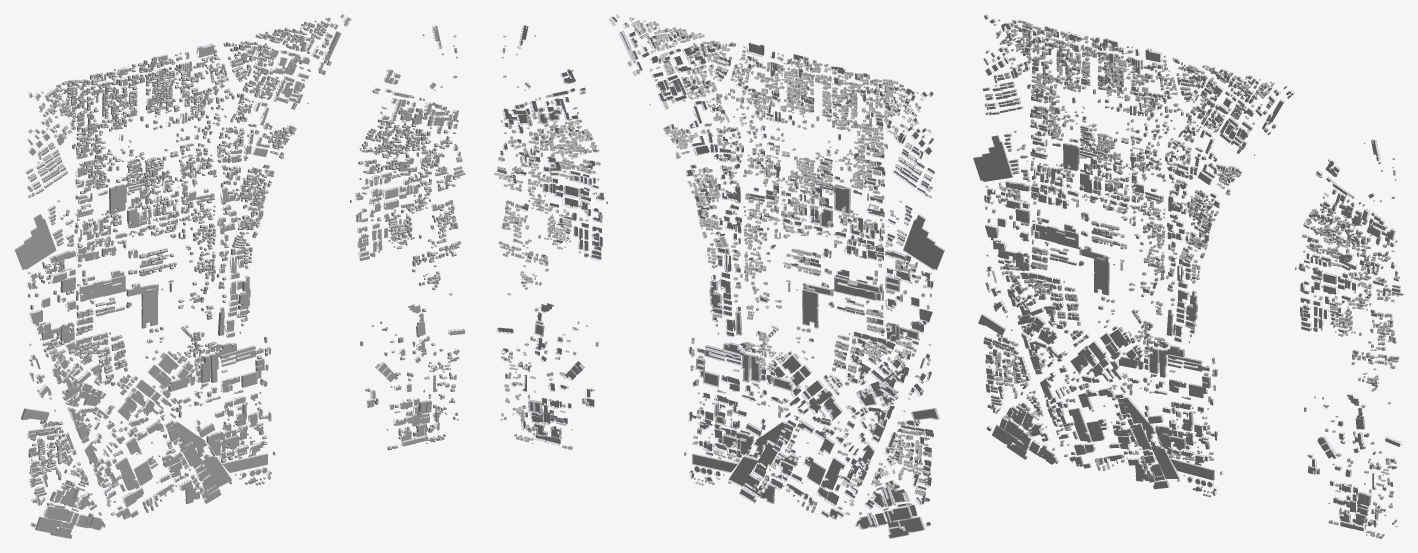
Rendered from buildings_4_2.obj.
3 renders of one model, left to right at view 1: azimuth 30°, elevation 25°; view 2: azimuth 150°, elevation 25°; view 3: azimuth 330°, elevation 25°, orthographic. The views are drawn at different scales.
Bounding box in the file's own units: 2090 × 2046 × 28.42.
5 materials, 5 textured.
